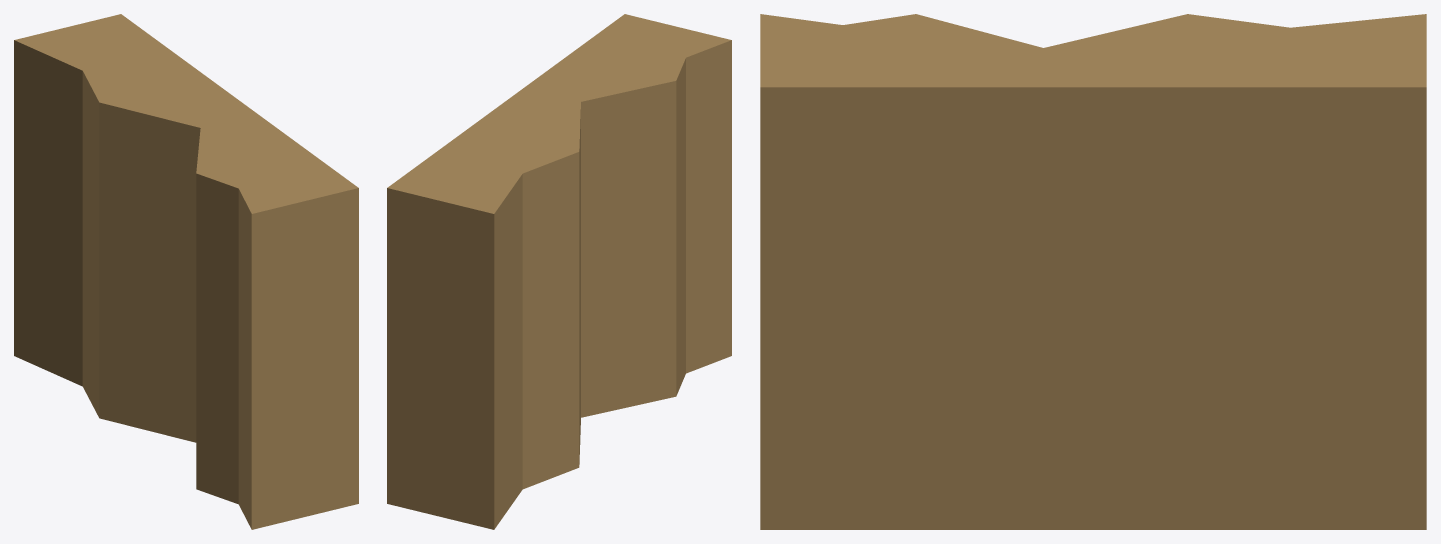
The model's file is Brown_Cliff_01.fbx.
3 renders of one model, left to right at view 1: azimuth 30°, elevation 25°; view 2: azimuth 150°, elevation 25°; view 3: azimuth 270°, elevation 25°, orthographic. The views are drawn at different scales.
Visible parts, largest first — view 1: Mesh1_Brown_Cliff Model; view 2: Mesh1_Brown_Cliff Model; view 3: Mesh1_Brown_Cliff Model.
Part boxes in pixels (x1=…): Mesh1_Brown_Cliff Model: x1=14, y1=14, x2=358, y2=529; Mesh1_Brown_Cliff Model: x1=387, y1=14, x2=731, y2=529; Mesh1_Brown_Cliff Model: x1=760, y1=14, x2=1426, y2=529.
Size of the model in its own units: 0.78 by 2.2 by 3.
